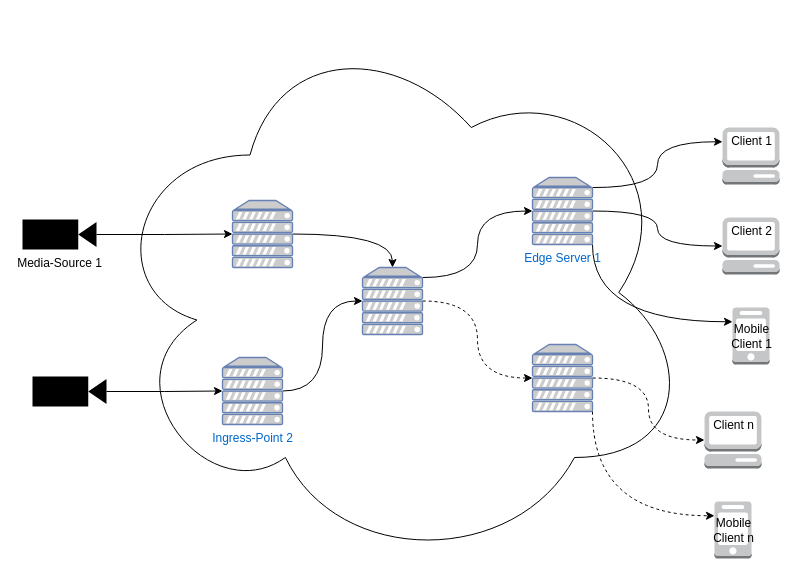
Image size: 797x585. Some labels were removed from this diagram. Each missing label, with the box of its shape:
Edge Server n: (531, 343, 593, 412)
Ingress-Point 1: (231, 199, 293, 268)
Intermediate Server n: (361, 266, 423, 335)
Media-Source 2: (32, 376, 106, 406)
